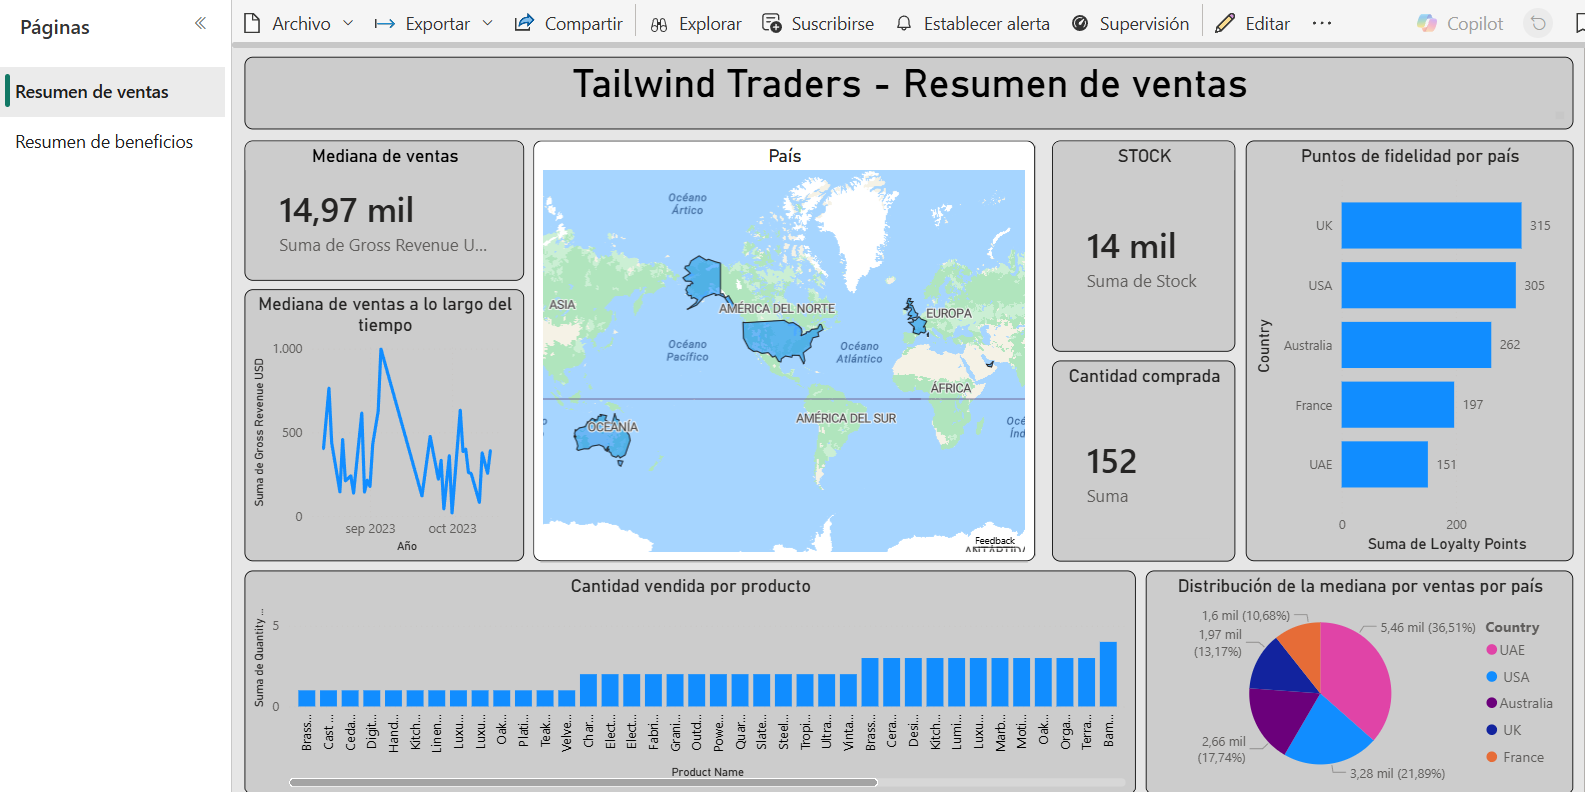

This screenshot's page, from the dashboard's own definition file:
{"tool":"powerbi","page":{"name":"Resumen de ventas","canvas":[1280,720],"ordinal":0},"visuals":[{"type":"clusteredBarChart","title":"Puntos de fidelidad por país","fields":{"Y":["Sum(Sales_in_USD. Loyalty Points)"],"Category":["Countries.Country"]},"box":[960,87.5,310,398.8],"z":0},{"type":"clusteredColumnChart","title":"Cantidad vendida por producto","fields":{"Category":["Sales_in_USD.Product Name"],"Y":["Sum(Sales_in_USD.Quantity Purchased)"]},"box":[11.2,495,843.8,213.8],"z":1000},{"type":"pieChart","title":"Distribución de la mediana por ventas por país","fields":{"Y":["Sum(Sales_in_USD.Gross Revenue USD)"],"Category":["Countries.Country"]},"box":[865,495,405,213.8],"z":2000},{"type":"lineChart","title":"Mediana de ventas a lo largo del tiempo","fields":{"Y":["Sum(Sales_in_USD.Gross Revenue USD)"],"Category":["CalendarTable.Date.Variación.Jerarquía de fechas.Año","CalendarTable.Date.Variación.Jerarquía de fechas.Trimestre","CalendarTable.Date.Variación.Jerarquía de fechas.Mes","CalendarTable.Date.Variación.Jerarquía de fechas.Día"]},"box":[11.2,228.8,265,257.5],"z":3000},{"type":"cardVisual","title":"STOCK","fields":{"Data":["Sum(Sales_in_USD. Stock  )"]},"box":[776.2,87.5,173.8,200],"z":4000},{"type":"cardVisual","title":"Cantidad comprada","fields":{"Data":["Sum(Sales_in_USD.Quantity Purchased)"]},"box":[776.2,296.2,173.8,190],"z":5000},{"type":"cardVisual","title":"Mediana de ventas","fields":{"Data":["Sum(Sales_in_USD.Gross Revenue USD)"]},"box":[11.2,87.5,265,132.5],"z":6000},{"type":"azureMap","fields":{"Category":["Countries.Country"]},"box":[285,87.5,475,398.8],"z":7000},{"type":"textbox","title":"Tailwind Traders - Resumen de ventas","box":[11.2,8.8,1258.8,68.8],"z":8000}]}

Visuals, with their boxes in screenshot pixels (x1, y1, x2, y2):
"Puntos de fidelidad por país" clusteredBarChart: 1240/137/1565/555
"Cantidad vendida por producto" clusteredColumnChart: 247/564/1130/788
"Distribución de la mediana por ventas por país" pieChart: 1141/564/1565/788
"Mediana de ventas a lo largo del tiempo" lineChart: 247/285/524/555
"STOCK" cardVisual: 1048/137/1230/346
"Cantidad comprada" cardVisual: 1048/356/1230/554
"Mediana de ventas" cardVisual: 247/137/524/276
azureMap - Countries.Country: 534/137/1031/555
"Tailwind Traders - Resumen de ventas" textbox: 247/55/1565/127
